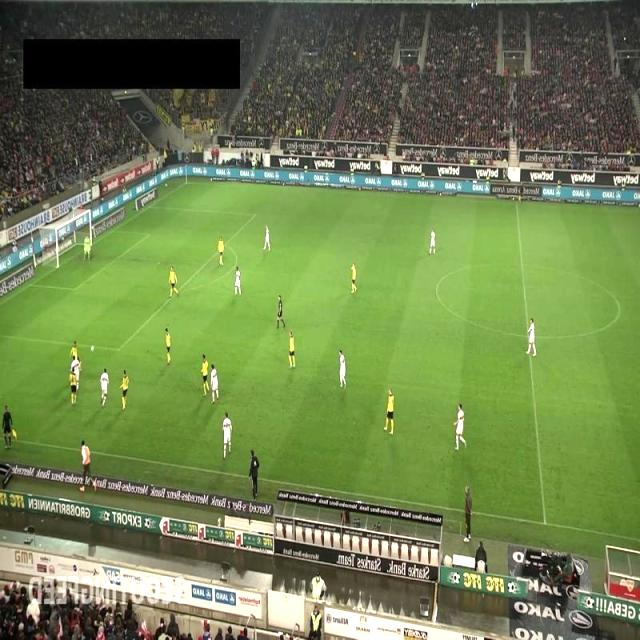bigarea_bottom_inner: (112, 344, 123, 355)
bigarea_top_inner: (250, 208, 260, 219)
bigarea_top_outter: (144, 202, 155, 212)
bottom_arc_area_intersection: (172, 286, 184, 296)
corner: (182, 178, 192, 188)
halfcircle_bottom: (520, 330, 534, 344)
halfcircle_top: (516, 259, 528, 271)
midline_bottom_intersection: (532, 508, 557, 537), (429, 616, 440, 626)
midline_top_intersection: (511, 197, 522, 208)
smallarea_bottom_inner: (70, 282, 80, 294)
smallarea_bottom_outter: (24, 280, 36, 292)
smallarea_top_inner: (144, 228, 154, 240)
smallarea_top_outter: (108, 224, 119, 235)
top_arc_area_intersection: (219, 241, 230, 252)
